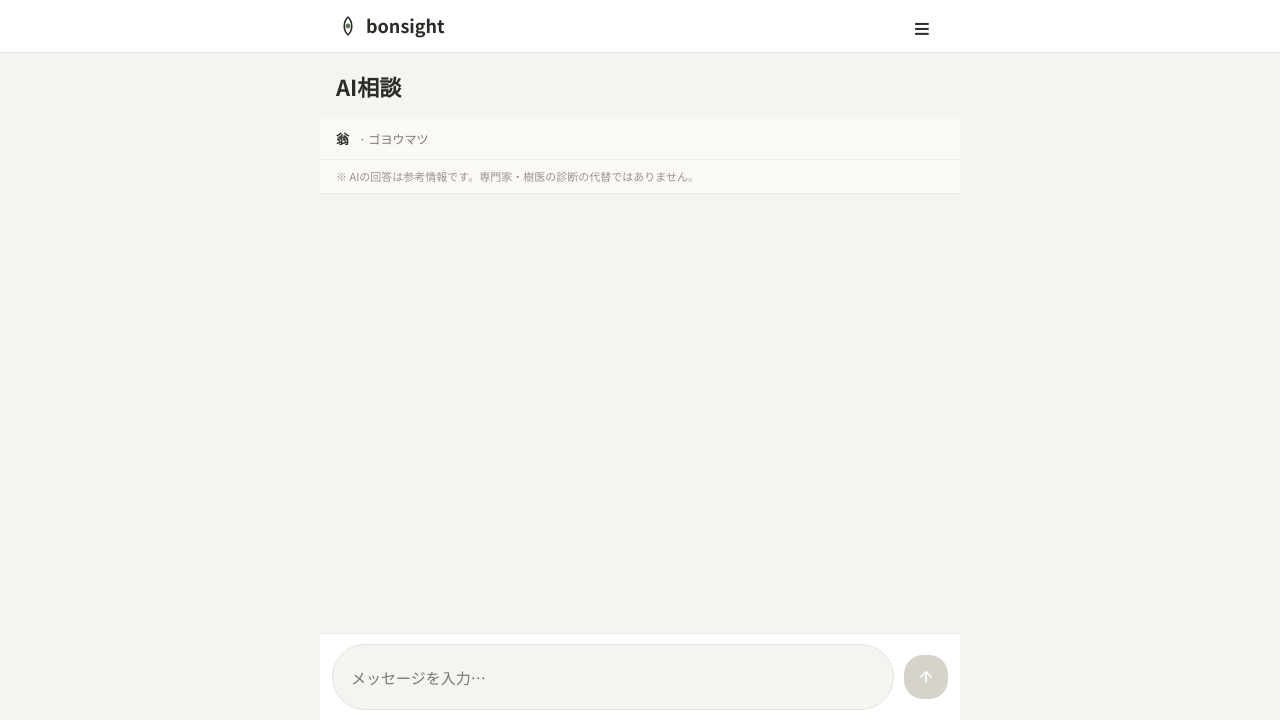
S6AiChat › sendChat エラー → エラーメッセージが表示される
Step 1. Type "エラー質問" into the field with placeholder "メッセージを入力…" → x=613, y=677, box [349,655,877,699]
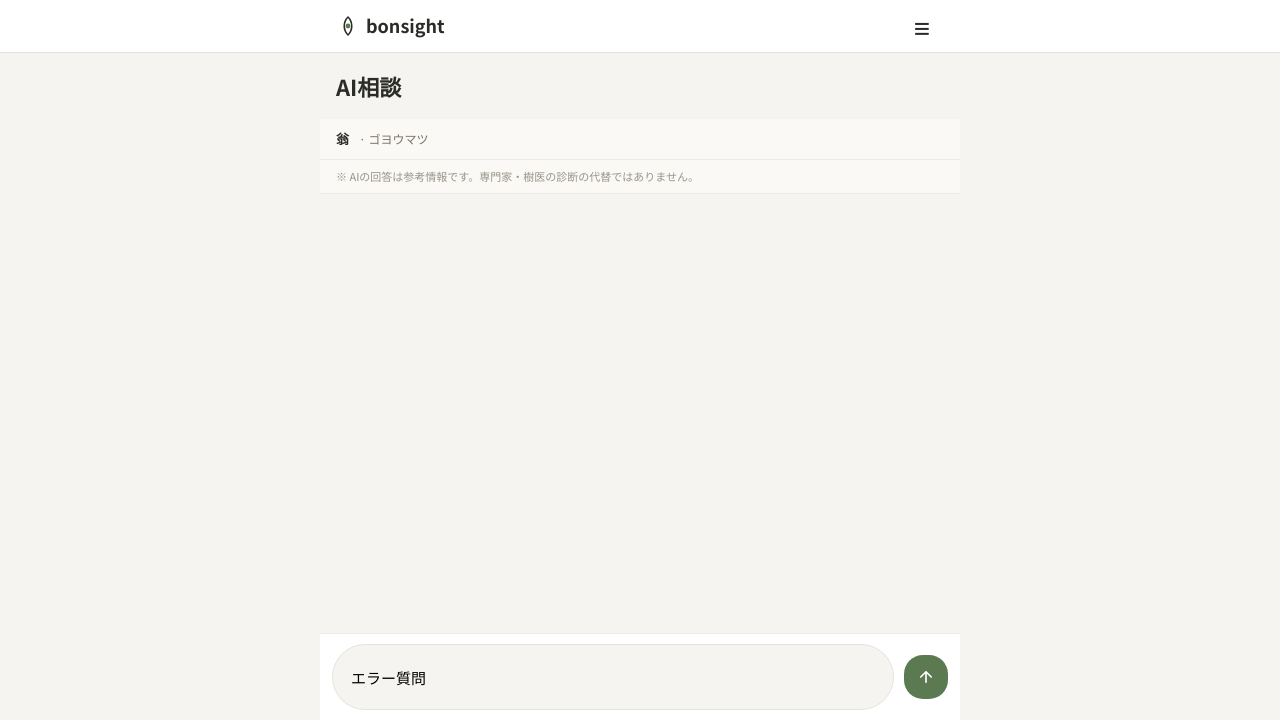
Step 2. Click the button named "送信" → x=926, y=677, box [904,655,948,699]
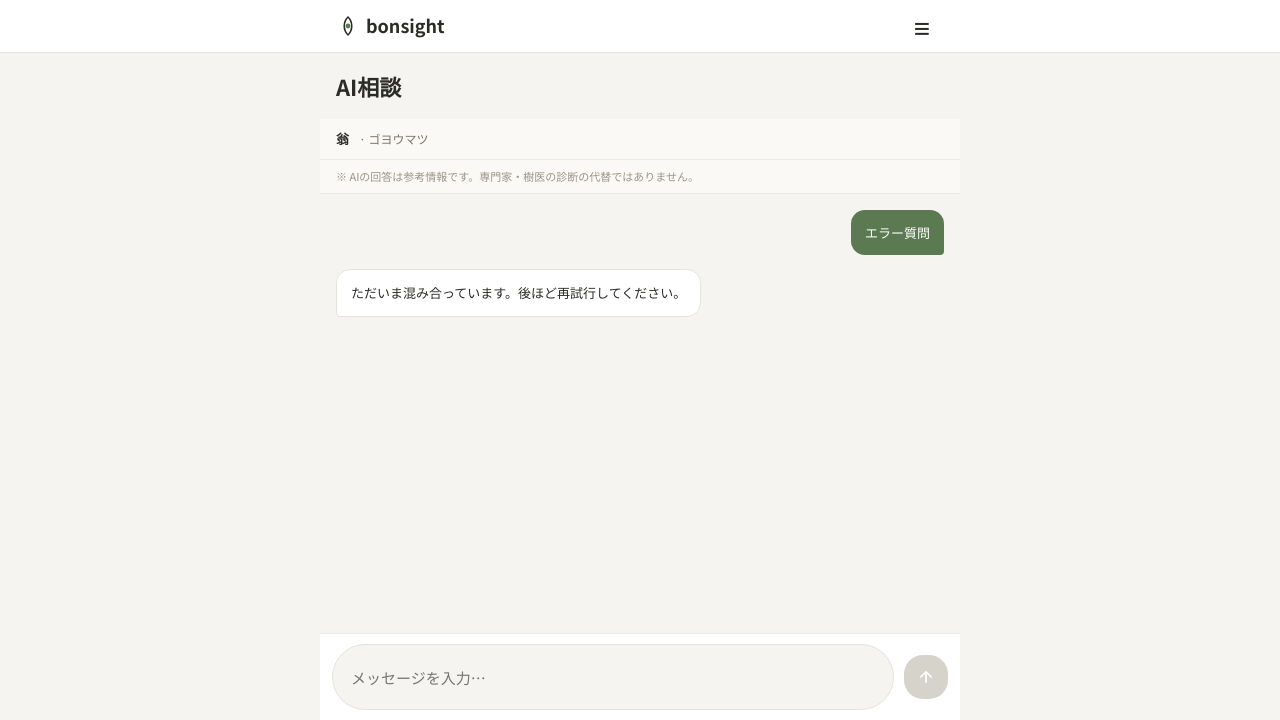
expect the text "ただいま混み合っています。後ほど再試行してください。" is shown: met, box [336,269,701,317]
